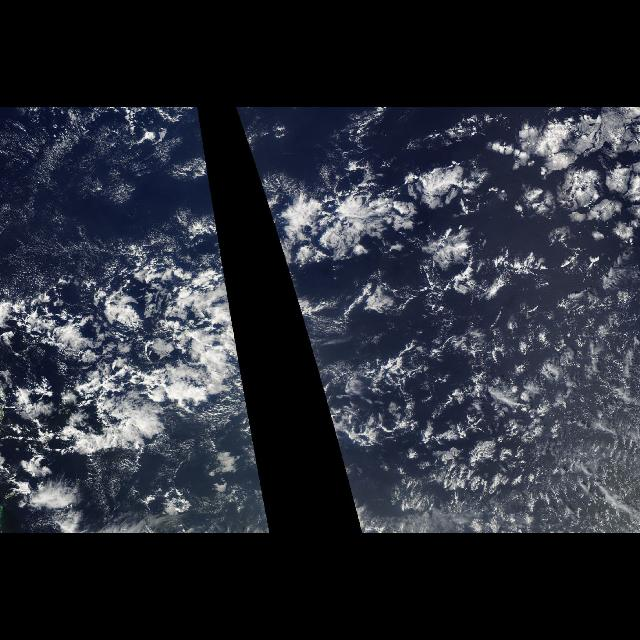Flower: (5, 300, 244, 524), (298, 110, 632, 254)
Gravel: (337, 258, 633, 524)
Sugar: (0, 107, 222, 299), (420, 350, 630, 530)
